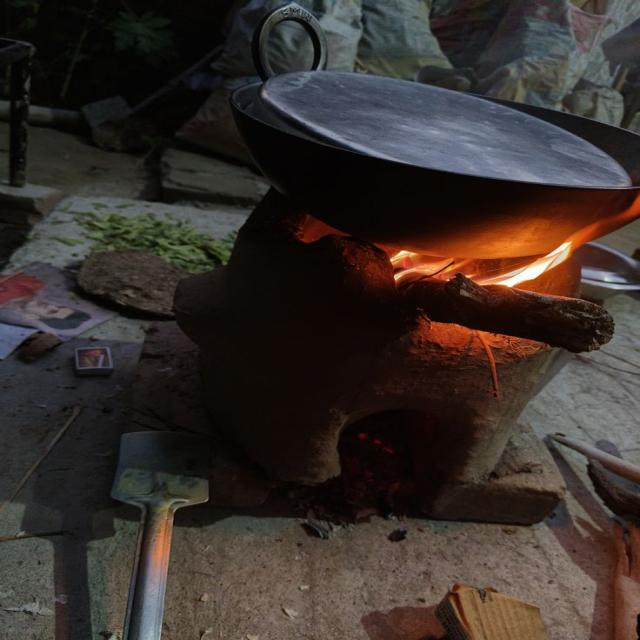fire: (481, 242, 571, 290), (391, 249, 463, 286)
